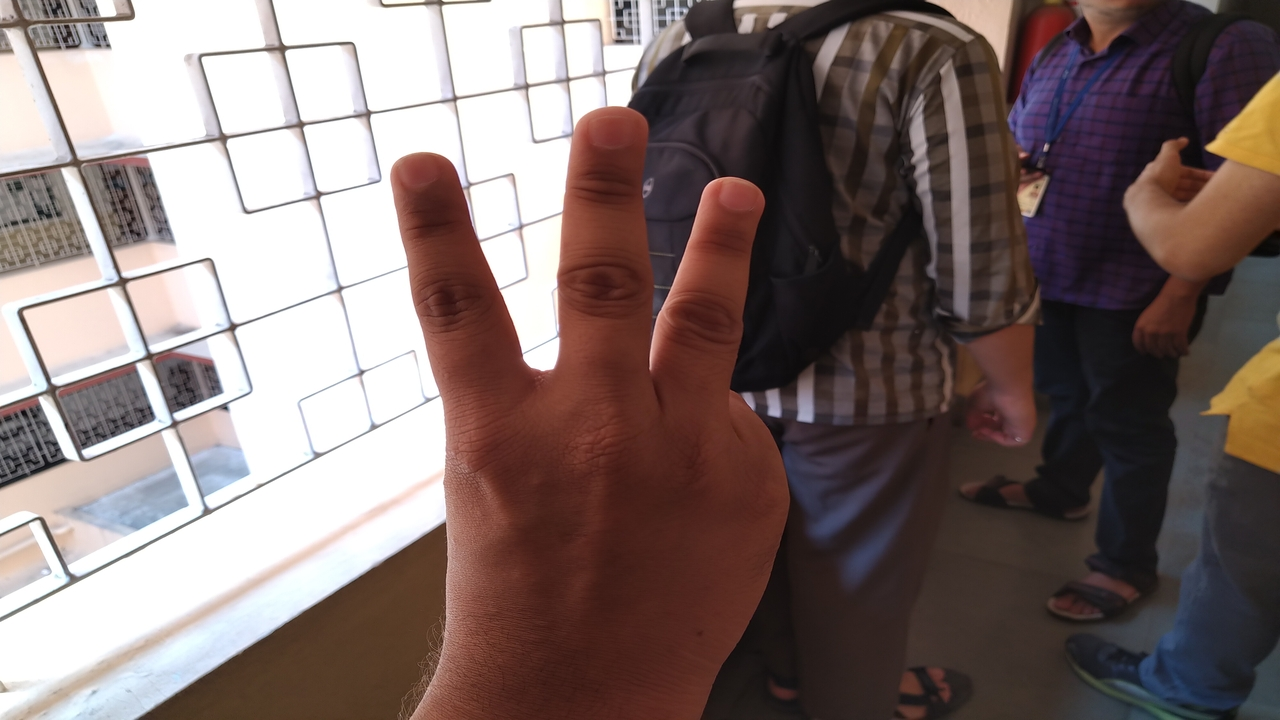fingertip: (560, 104, 653, 158), (384, 146, 456, 212), (694, 168, 760, 230)
